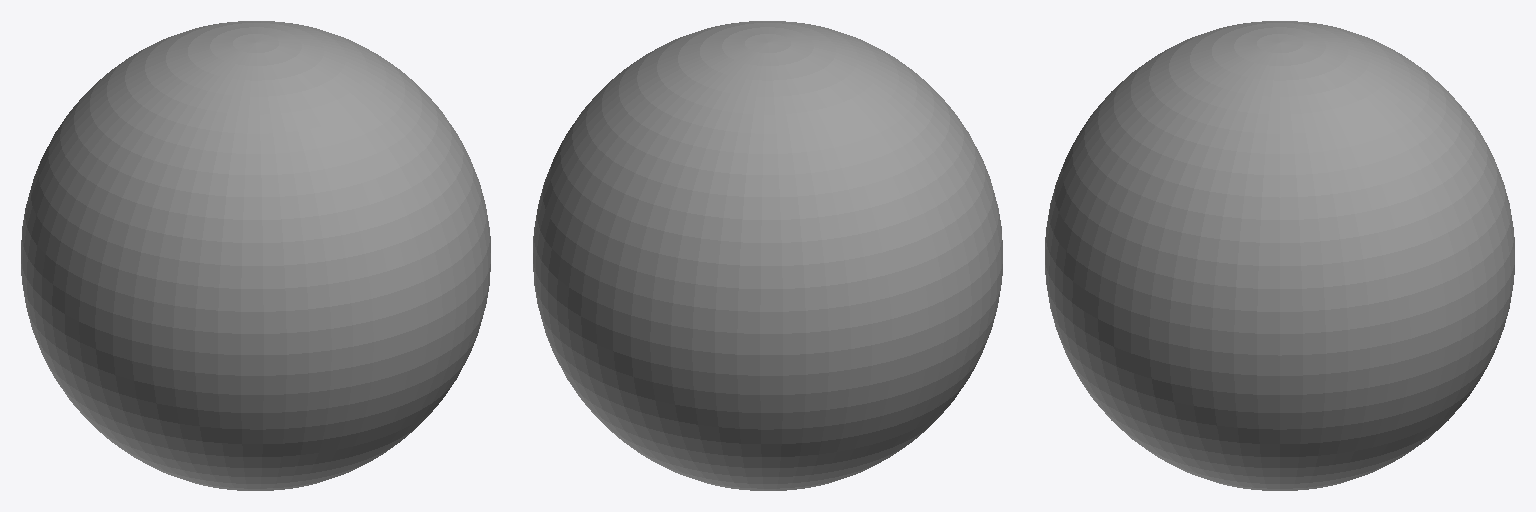
Rendered from mercury.obj.
The picture shows the model from 3 angles: view 1: azimuth 30°, elevation 25°; view 2: azimuth 150°, elevation 25°; view 3: azimuth 270°, elevation 25°; orthographic projection.
Visible parts, largest first — view 1: Sphere; view 2: Sphere; view 3: Sphere.
Part boxes in pixels (x1,y1,x2,y2): Sphere: (21, 21, 490, 490); Sphere: (533, 21, 1002, 490); Sphere: (1045, 21, 1514, 490).
Size of the model in its own units: 4.88 by 4.88 by 4.88.